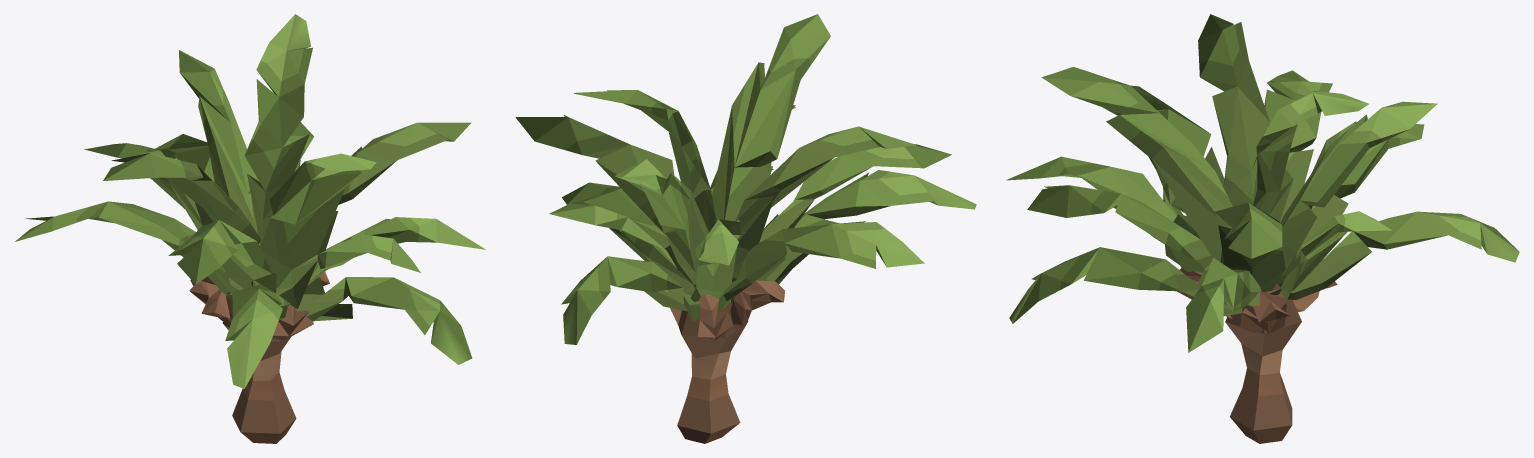
File: SM_Env_Tree_Bush_02.glb
3 renders of one model, left to right at view 1: azimuth 30°, elevation 25°; view 2: azimuth 150°, elevation 25°; view 3: azimuth 270°, elevation 25°, orthographic. The views are drawn at different scales.
Visible parts, largest first — view 1: SM_Env_Tree_Bush_02; view 2: SM_Env_Tree_Bush_02; view 3: SM_Env_Tree_Bush_02.
Boxes of the visible parts, left/top/right/bottom form: SM_Env_Tree_Bush_02: left=15, top=14, right=485, bottom=443; SM_Env_Tree_Bush_02: left=515, top=14, right=976, bottom=443; SM_Env_Tree_Bush_02: left=1006, top=14, right=1519, bottom=443.
Bounding box in the file's own units: 3.5 × 2.82 × 3.51.
1 material, 1 textured.
